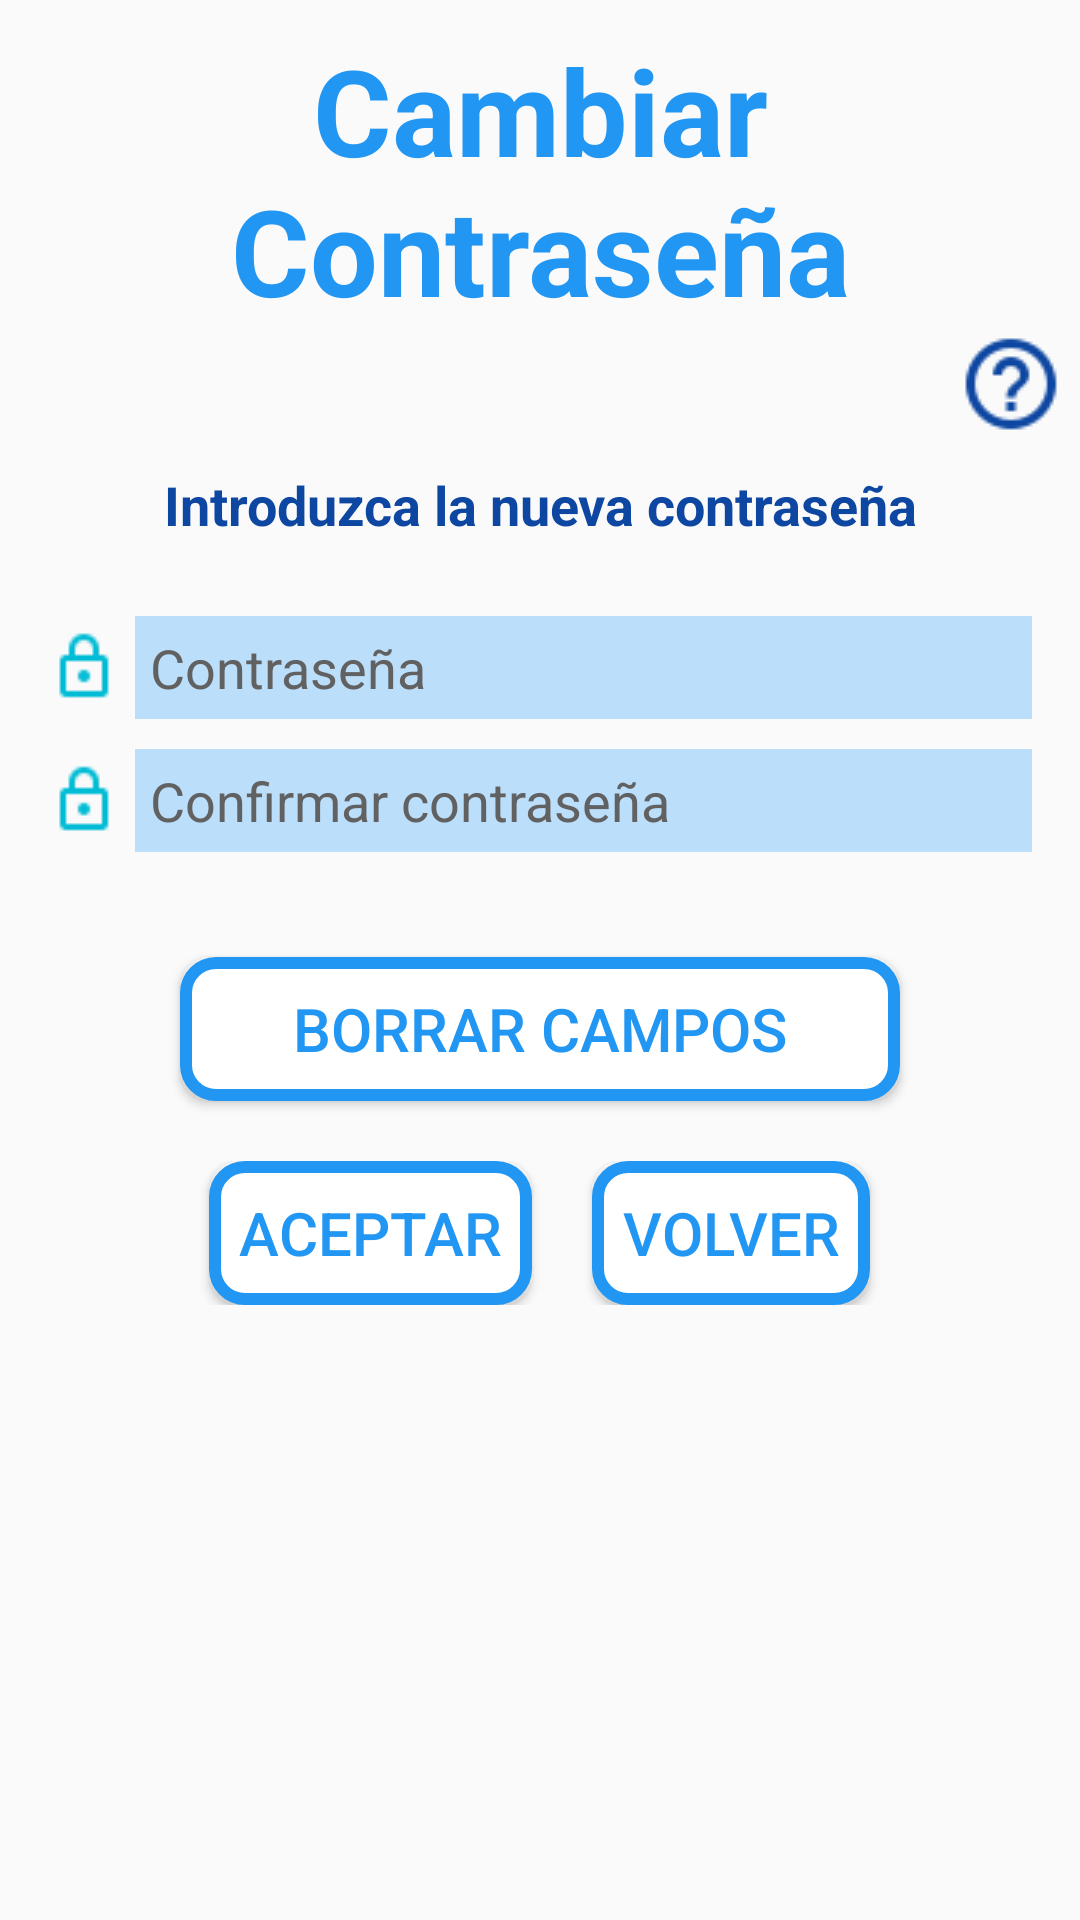

Locate icon controls on the screen. Image size 1080px x 1920px, boxes as Rect(x1, y1, x2, y2).
iconopass: Rect(59, 633, 109, 698), Rect(59, 766, 109, 831)
